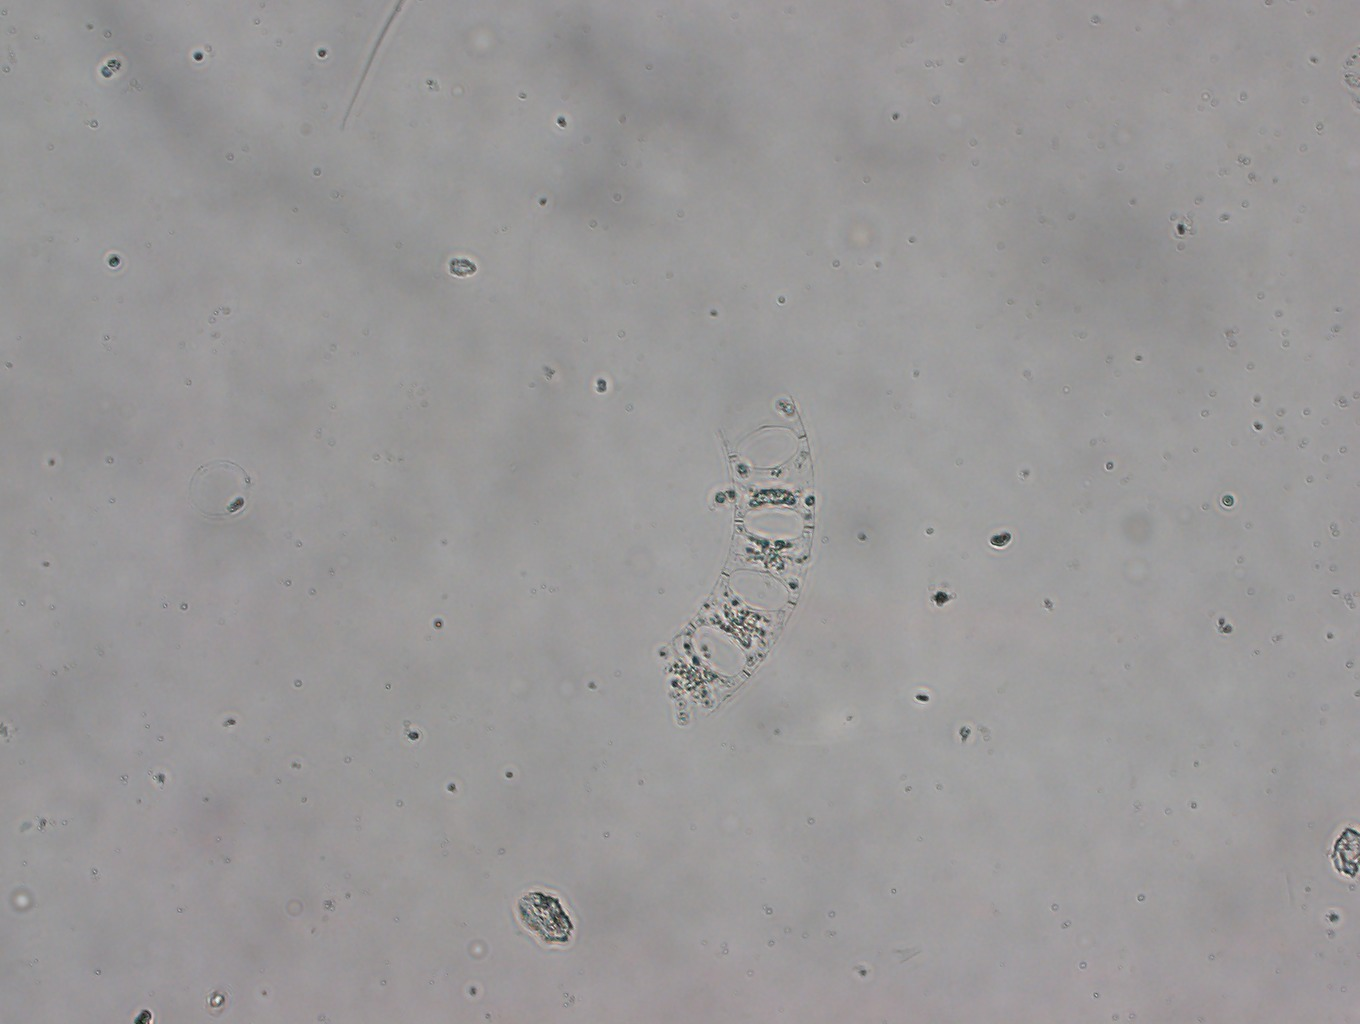eucampia: (667, 394, 816, 719)
